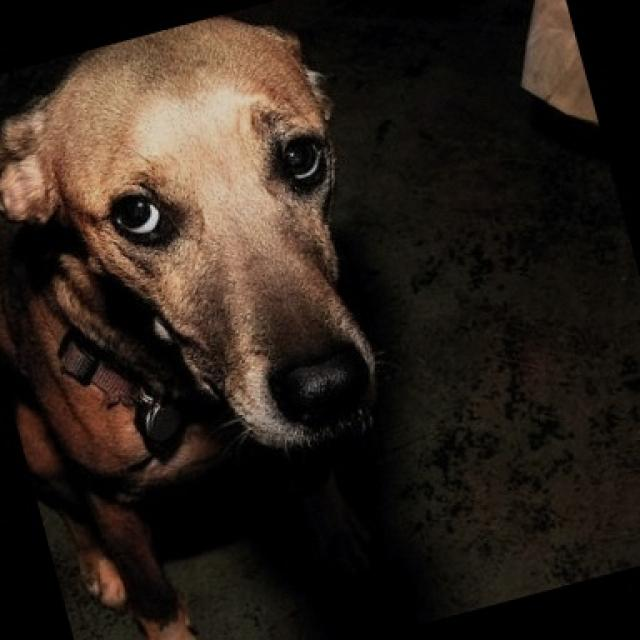sad: (7, 8, 455, 519)
